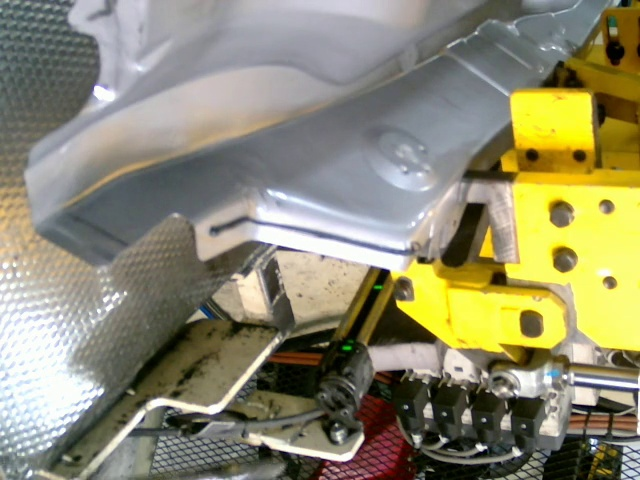line: (207, 211, 424, 257)
